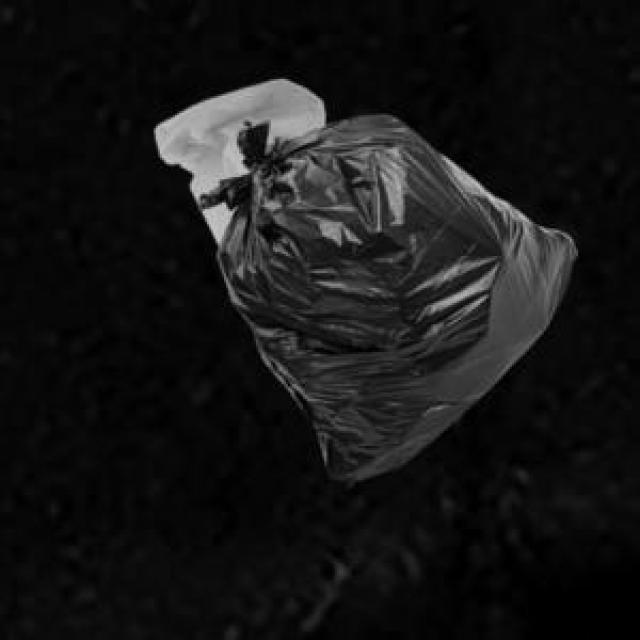miscellaneous trash: (196, 111, 572, 484)
